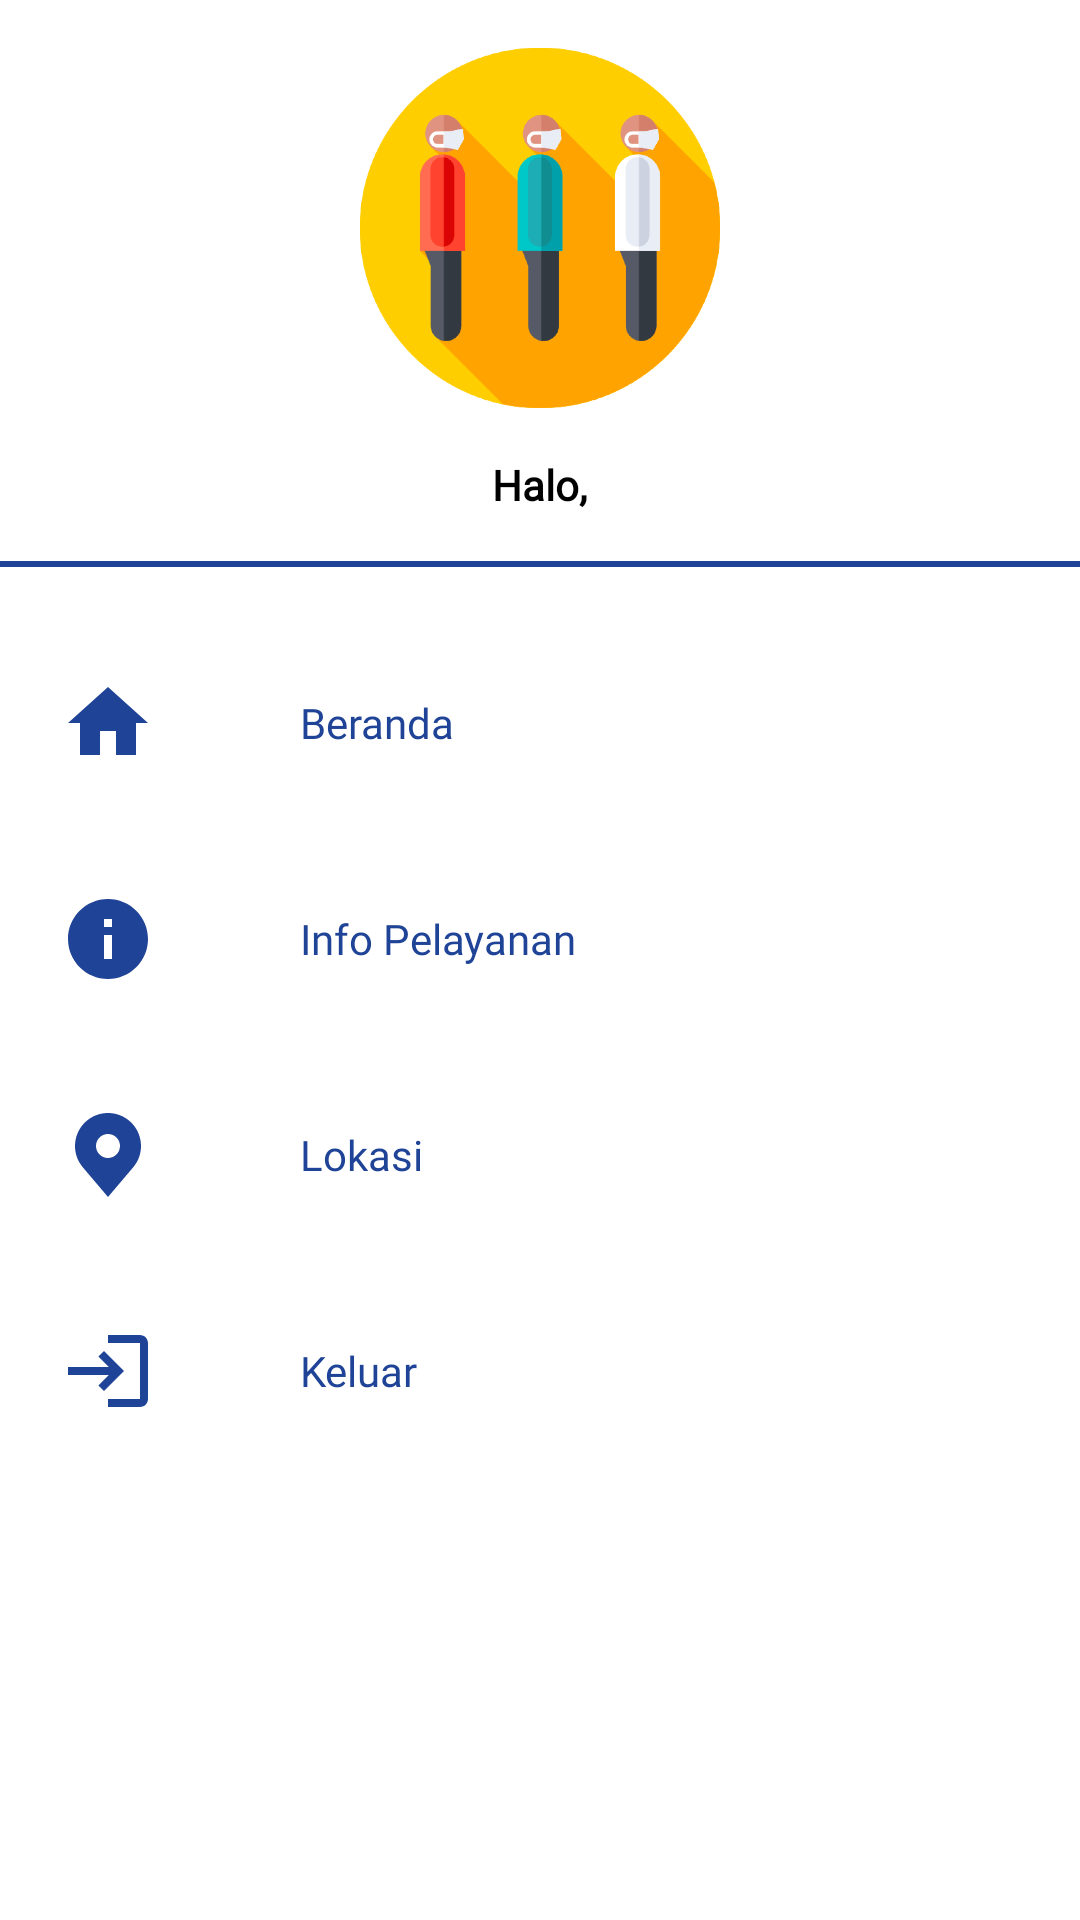

Locate icon controls on the screen. Image size 1080w x 1920h, boxes as (x1, y1, x2, y2).
home: (68, 687, 148, 755)
